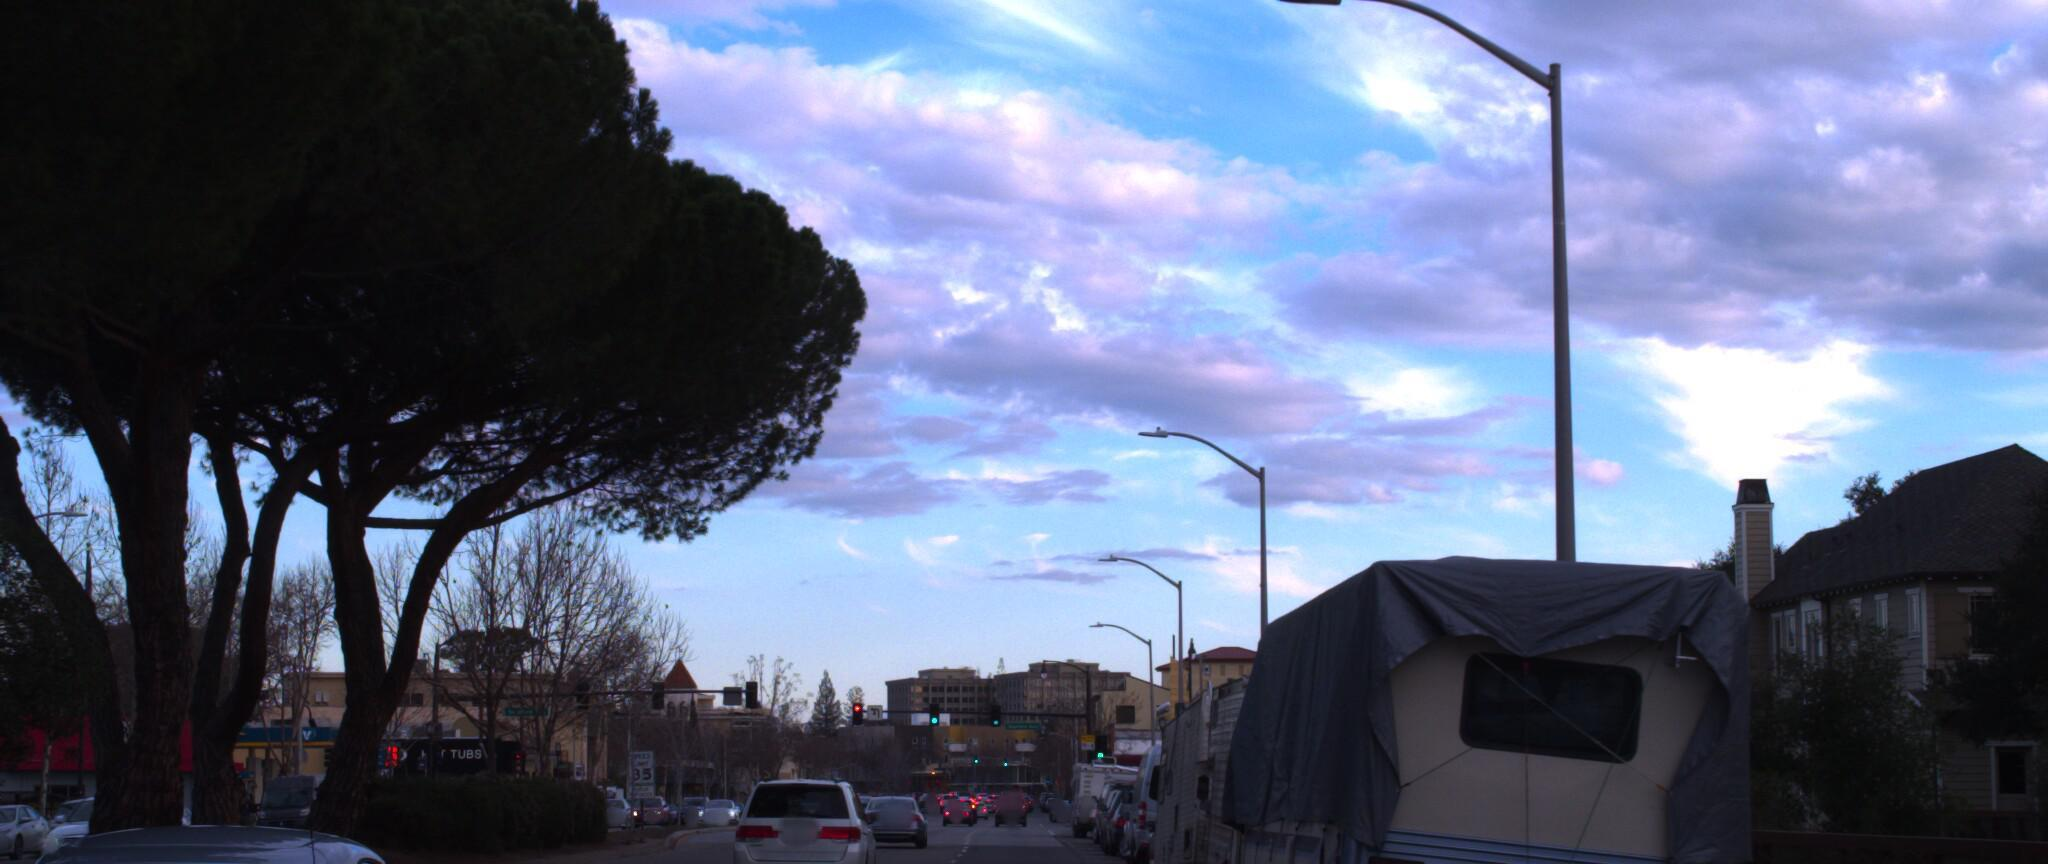car: (0, 797, 526, 864), (726, 754, 887, 864), (31, 775, 209, 860), (846, 777, 933, 842), (0, 779, 65, 844)
other_vehicle: (1189, 626, 1526, 864), (1149, 653, 1425, 864)
truck: (1221, 502, 1771, 864), (1121, 717, 1237, 856)
